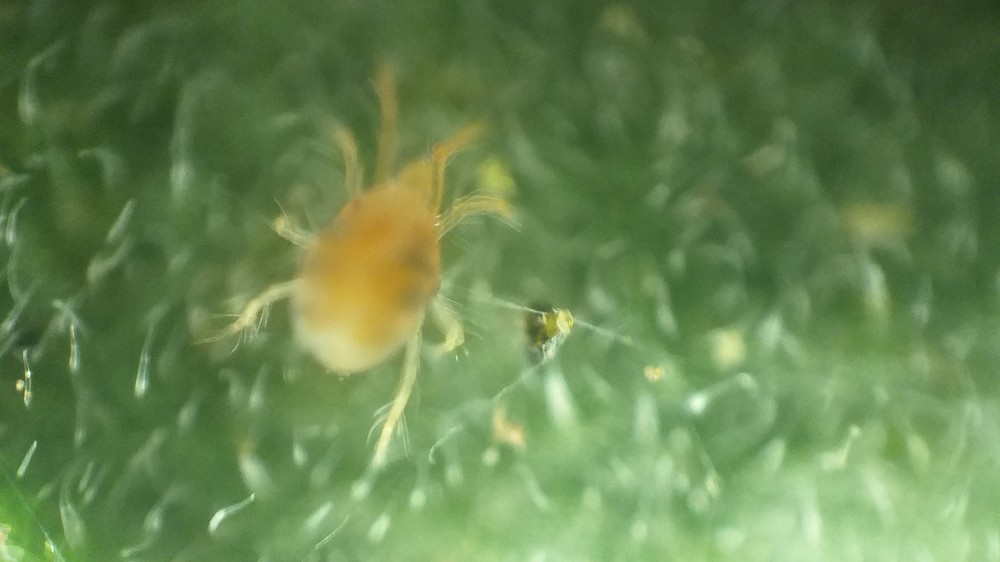Aracnido Rojo: (209, 63, 554, 488)
